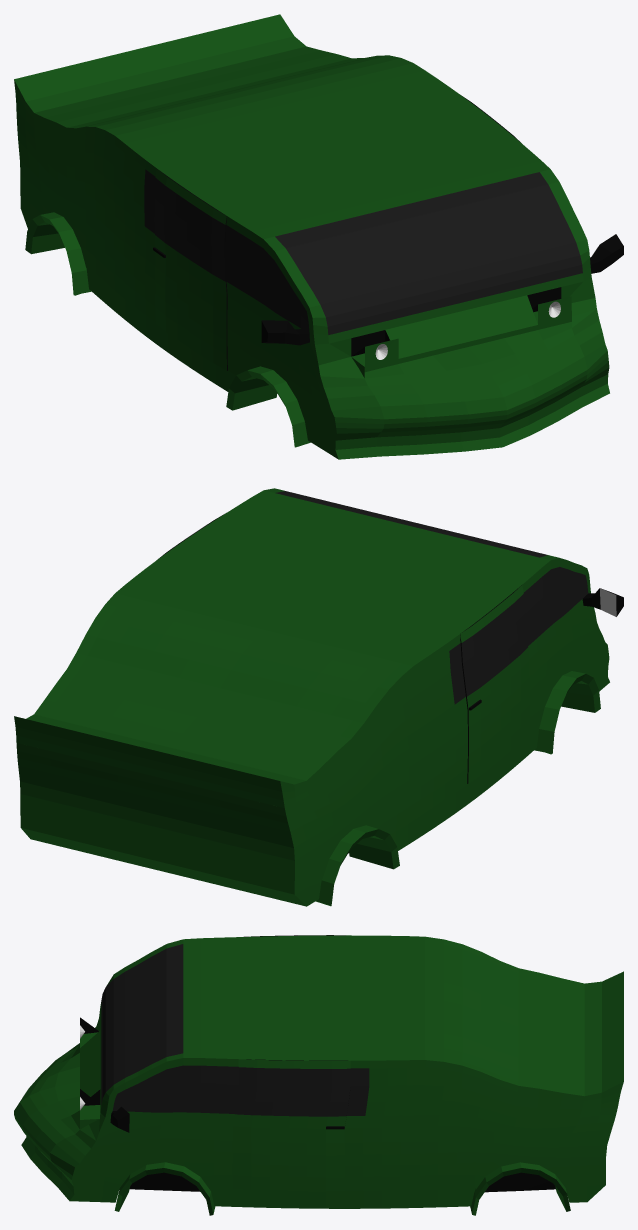
File: futuristicCar.glb
3 renders of one model, top to bottom at view 1: azimuth 30°, elevation 25°; view 2: azimuth 150°, elevation 25°; view 3: azimuth 270°, elevation 25°, orthographic. The views are drawn at different scales.
Parts seen in each view (by area): view 1: carBase, Cylinder; view 2: carBase, Cylinder; view 3: carBase, Cylinder.
Part boxes in pixels (left/top/right/bottom): carBase: left=14, top=14, right=623, bottom=459; Cylinder: left=25, top=212, right=310, bottom=447; carBase: left=14, top=488, right=623, bottom=906; Cylinder: left=316, top=671, right=600, bottom=906; carBase: left=14, top=935, right=623, bottom=1208; Cylinder: left=114, top=1162, right=570, bottom=1215.
Size of the model in its own units: 0.4211 by 0.2028 by 0.7374.
